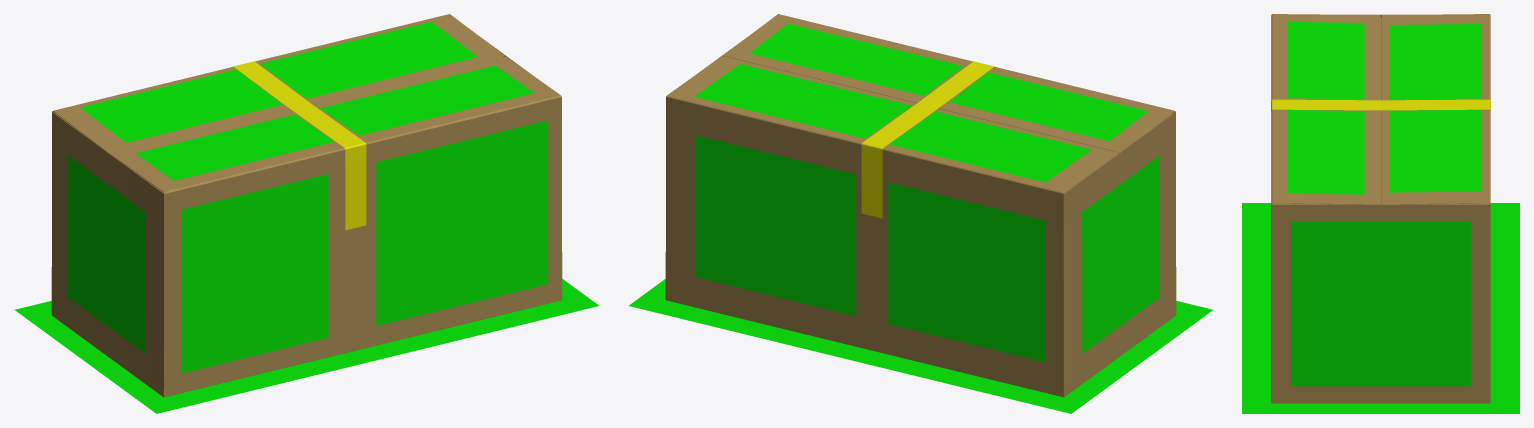
The model's file is box_long_flat.fbx.
3 renders of one model, left to right at view 1: azimuth 30°, elevation 25°; view 2: azimuth 150°, elevation 25°; view 3: azimuth 270°, elevation 25°, orthographic. The views are drawn at different scales.
Parts seen in each view (by area): view 1: box_long_flat_box_decal, box_long_flat_box, box_long_flat_shdw_decal, box_long_flat_tape; view 2: box_long_flat_box_decal, box_long_flat_box, box_long_flat_shdw_decal, box_long_flat_tape; view 3: box_long_flat_box_decal, box_long_flat_box, box_long_flat_shdw_decal, box_long_flat_tape.
Part boxes in pixels (x1=…): box_long_flat_box_decal: x1=68, y1=22, x2=548, y2=373; box_long_flat_box: x1=51, y1=14, x2=562, y2=397; box_long_flat_shdw_decal: x1=14, y1=279, x2=598, y2=413; box_long_flat_tape: x1=233, y1=61, x2=366, y2=230; box_long_flat_box_decal: x1=694, y1=23, x2=1159, y2=362; box_long_flat_box: x1=665, y1=14, x2=1176, y2=397; box_long_flat_shdw_decal: x1=629, y1=279, x2=1213, y2=413; box_long_flat_tape: x1=861, y1=61, x2=994, y2=218; box_long_flat_box_decal: x1=1288, y1=22, x2=1480, y2=386; box_long_flat_box: x1=1271, y1=14, x2=1490, y2=403; box_long_flat_shdw_decal: x1=1242, y1=203, x2=1519, y2=413; box_long_flat_tape: x1=1271, y1=99, x2=1490, y2=110.
Bounding box in the file's own units: 30.43 × 13.5 × 16.93.
